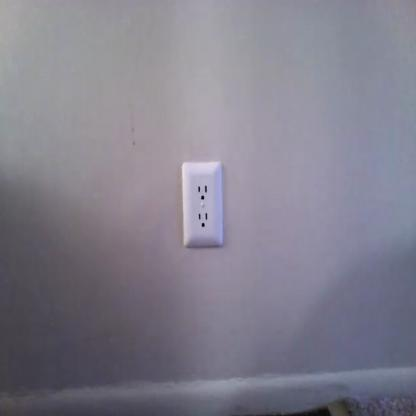OUTLET: (180, 161, 224, 249)
